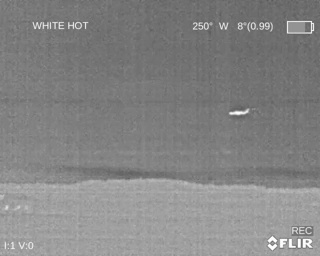AIRPLANE: (228, 108, 250, 117)
